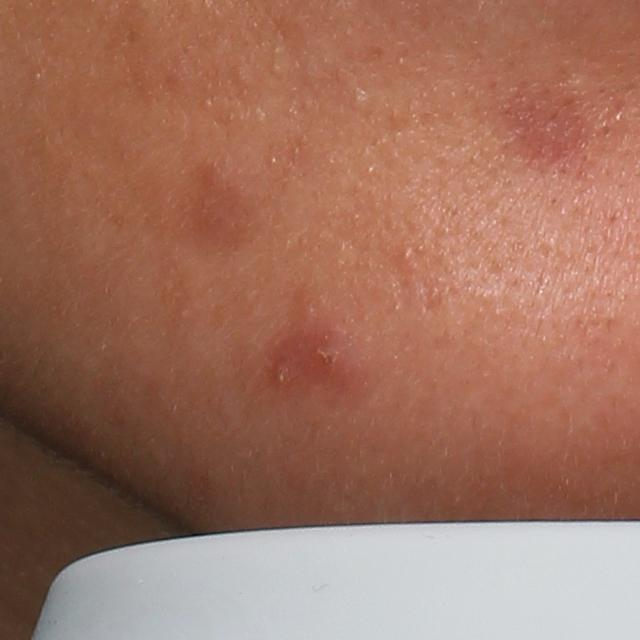comedo: (349, 88, 370, 108)
papule: (271, 323, 368, 390)
